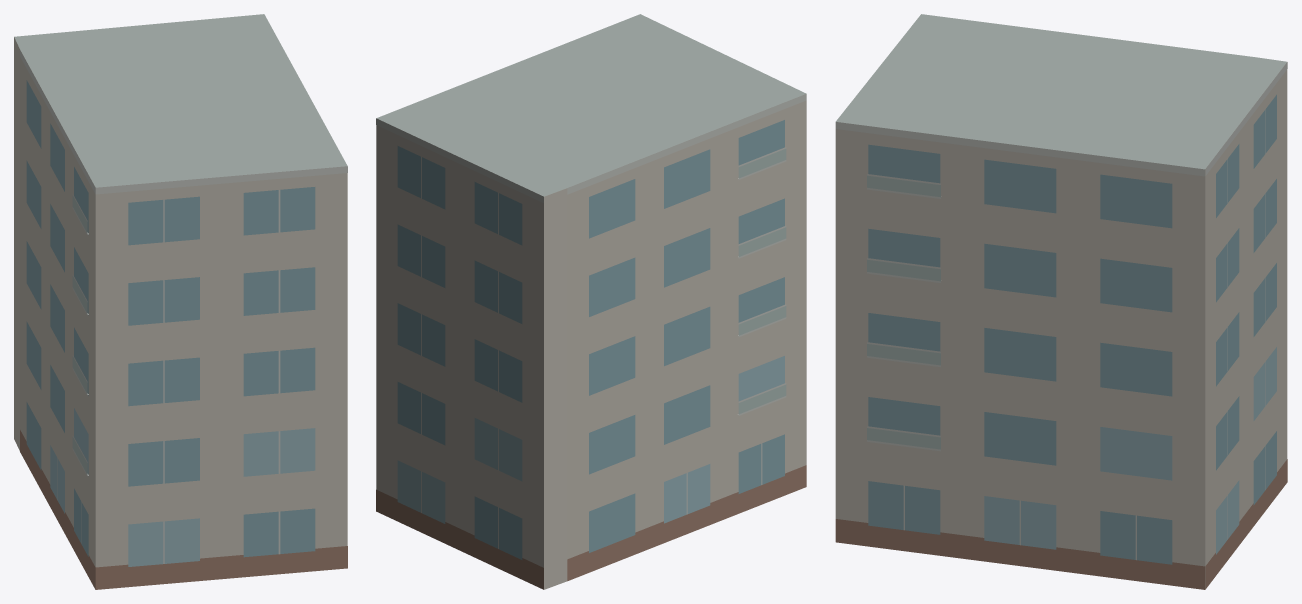
File: survey-upis-32868386.glb
3 renders of one model, left to right at view 1: azimuth 30°, elevation 25°; view 2: azimuth 150°, elevation 25°; view 3: azimuth 270°, elevation 25°, orthographic. The views are drawn at different scales.
Parts seen in each view (by area): view 1: survey-upis-32868386.tmp; view 2: survey-upis-32868386.tmp; view 3: survey-upis-32868386.tmp.
Part boxes in pixels (x1,y1,x2,y2): survey-upis-32868386.tmp: (14, 14, 347, 589); survey-upis-32868386.tmp: (376, 14, 806, 589); survey-upis-32868386.tmp: (835, 14, 1287, 589).
Bounding box in the file's own units: 11.42 × 14.4 × 14.04.
